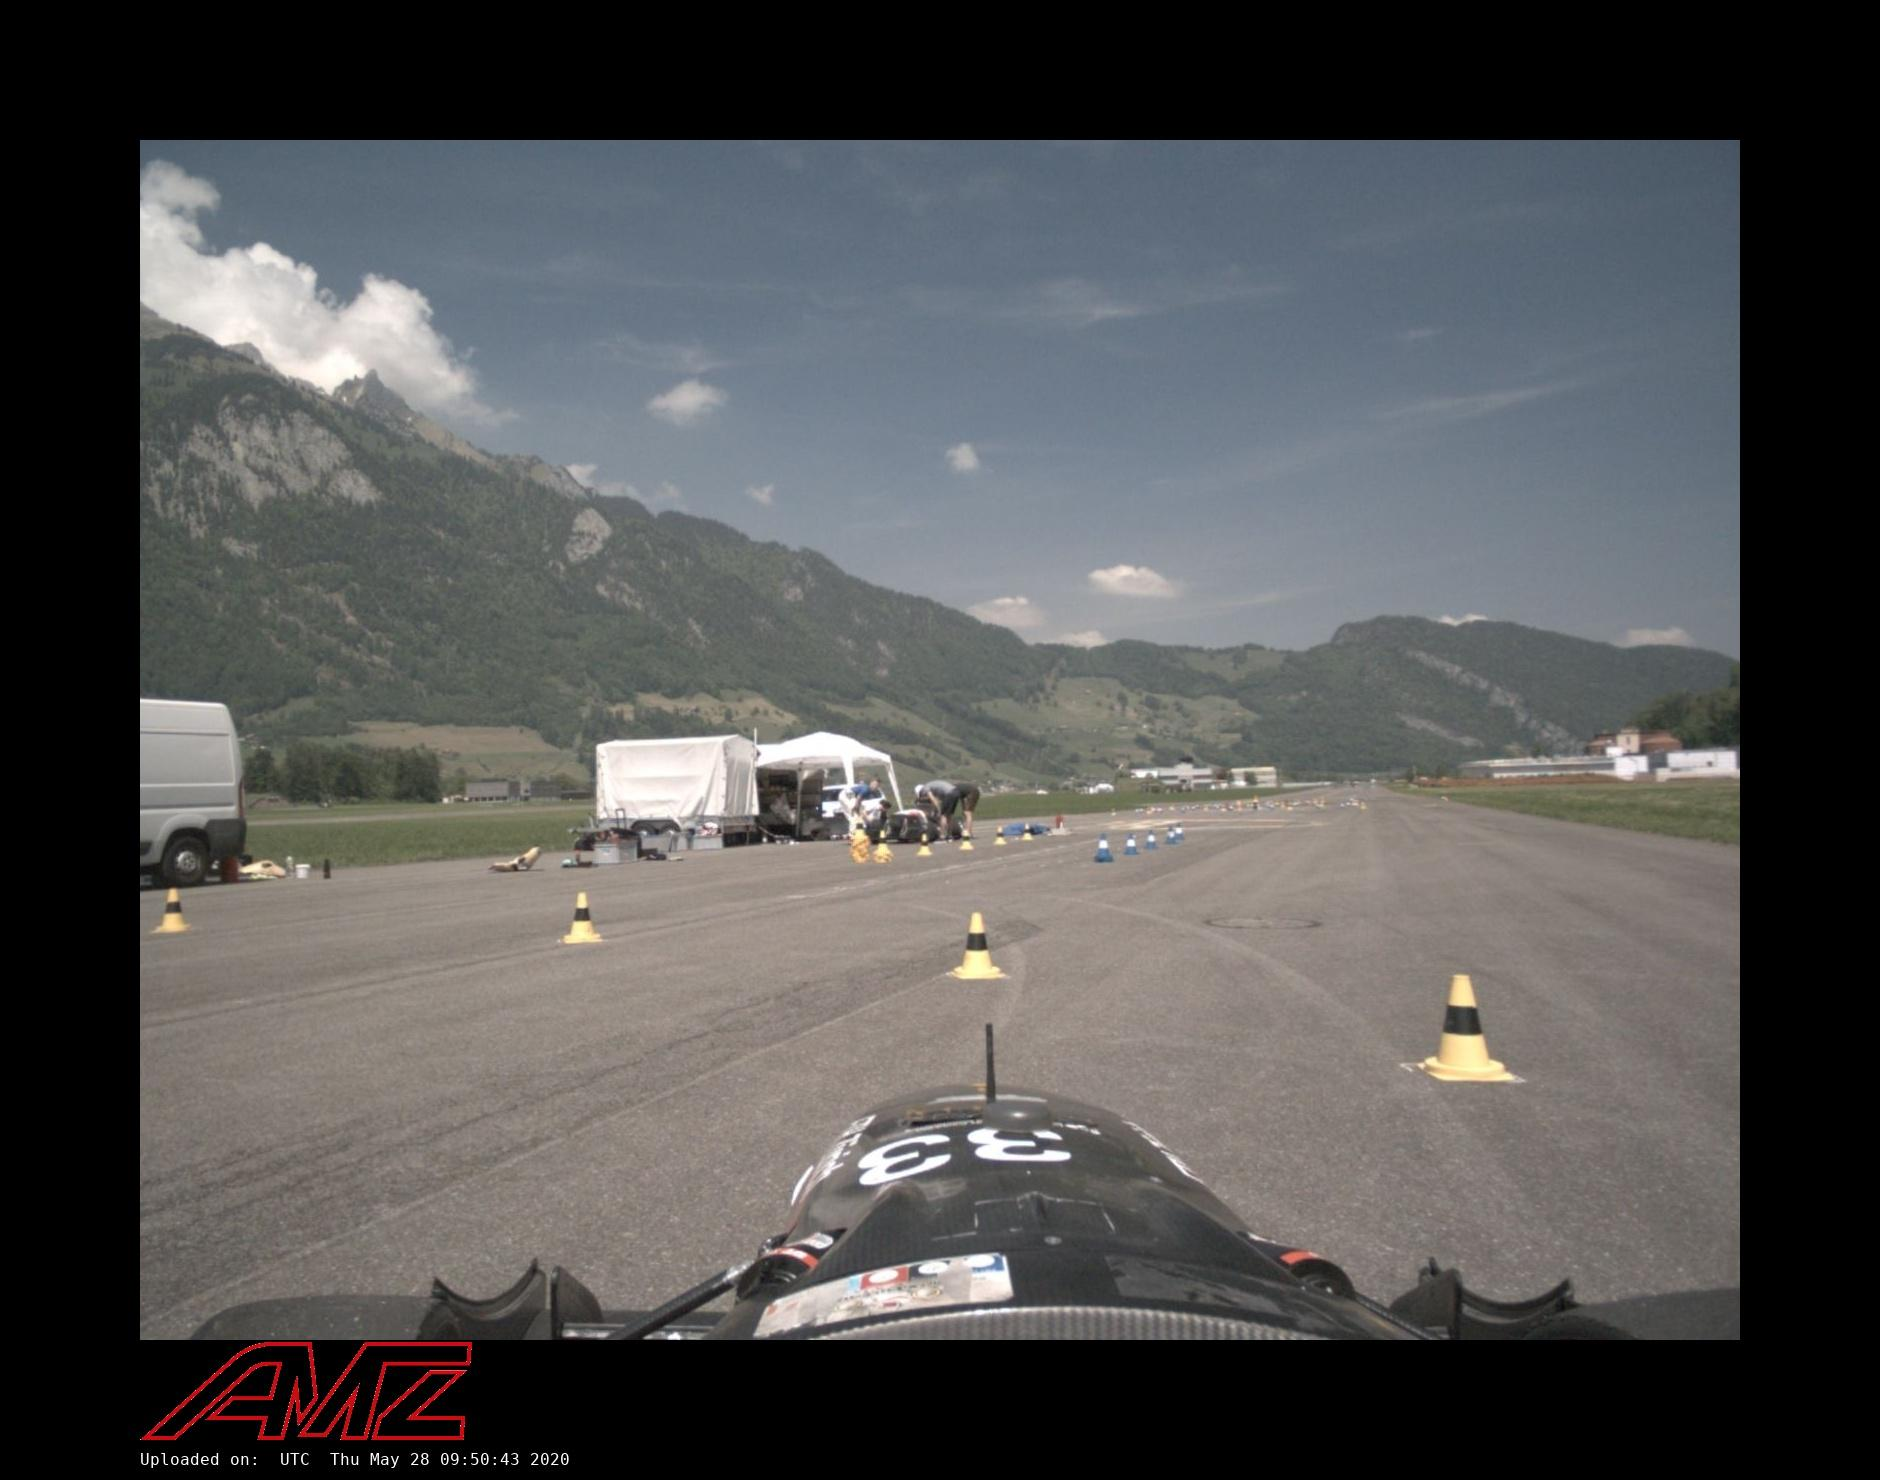blue_cone: (1096, 833, 1112, 861), (1125, 835, 1138, 854), (1144, 830, 1157, 848), (1164, 825, 1177, 844), (1173, 822, 1186, 841)
yellow_cone: (1418, 975, 1512, 1082), (954, 912, 1004, 978), (563, 893, 603, 944), (156, 888, 191, 932), (874, 830, 891, 851), (853, 818, 867, 838), (919, 835, 932, 854), (960, 832, 974, 848), (993, 827, 1006, 844), (1022, 822, 1033, 841)
